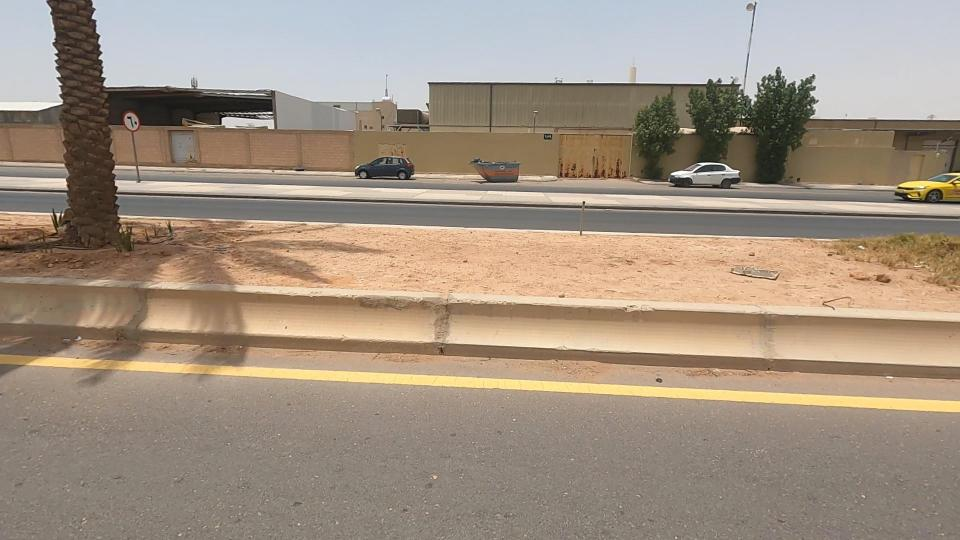CLUTTER_SIDEWALK: (343, 153, 960, 368), (84, 161, 588, 333)
GARBAGE: (682, 229, 819, 310)
